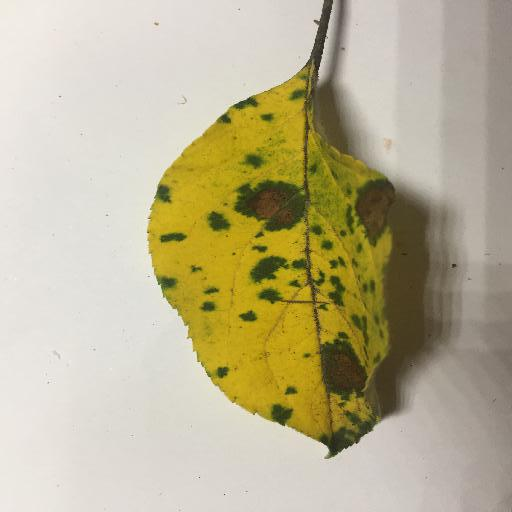Brown_Spot: (350, 180, 393, 243), (239, 187, 301, 226), (324, 342, 366, 396)
